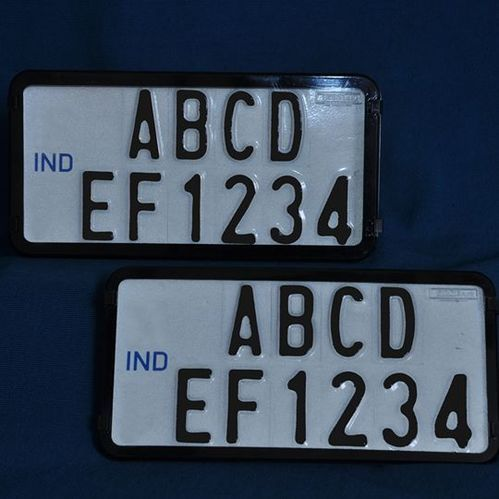doublelinenumberplate: (105, 268, 497, 463), (11, 68, 379, 262)
